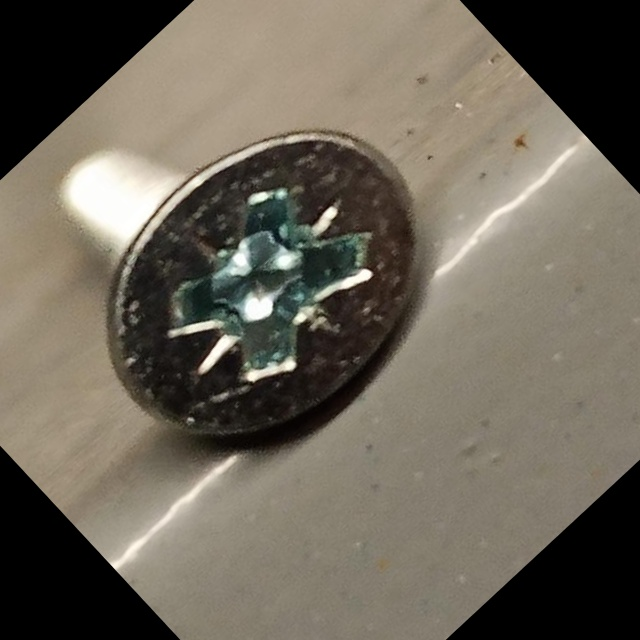pozidriv: (48, 67, 487, 502)
